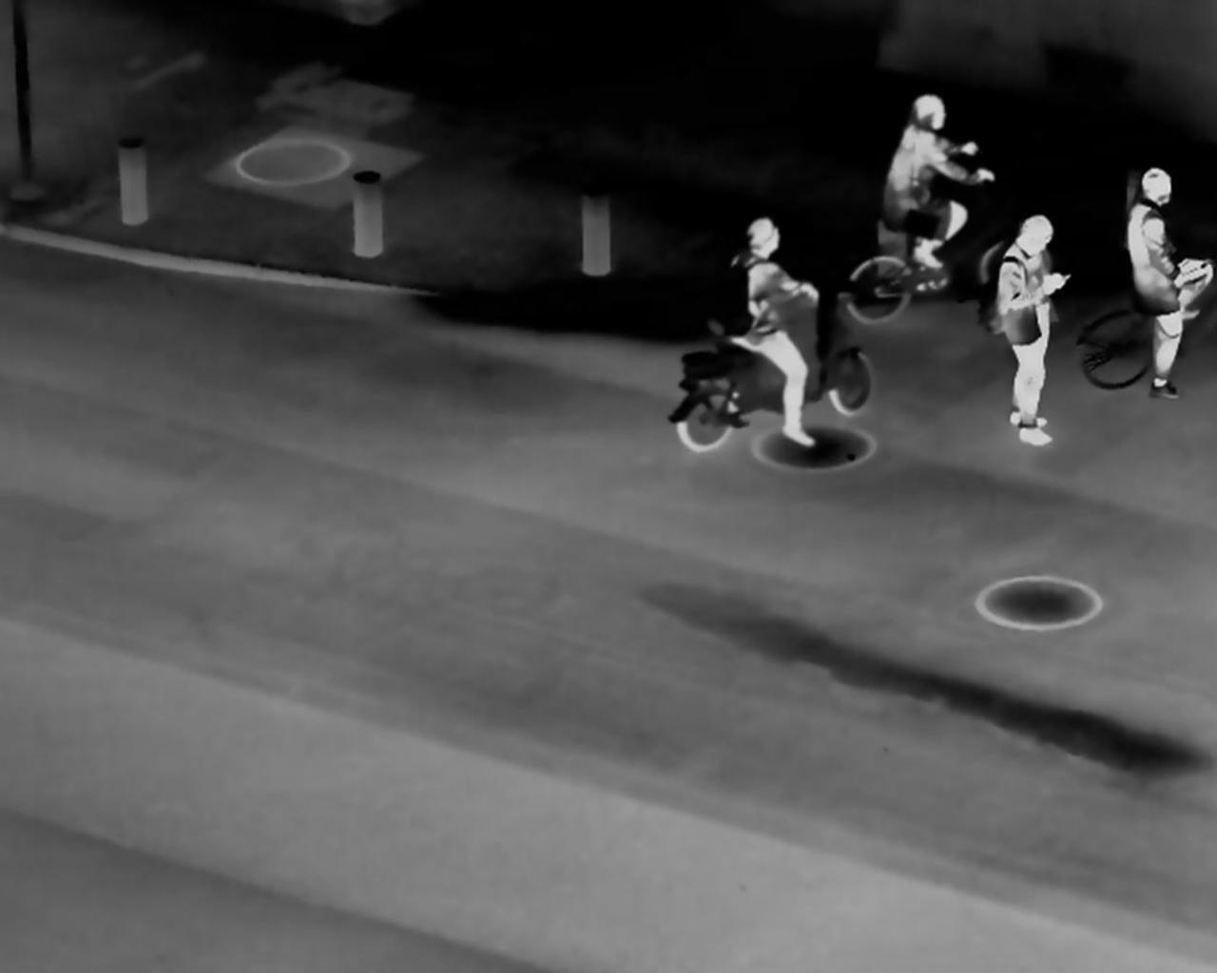person: (713, 213, 838, 453), (870, 84, 989, 297), (1118, 148, 1210, 404), (989, 200, 1072, 451)
